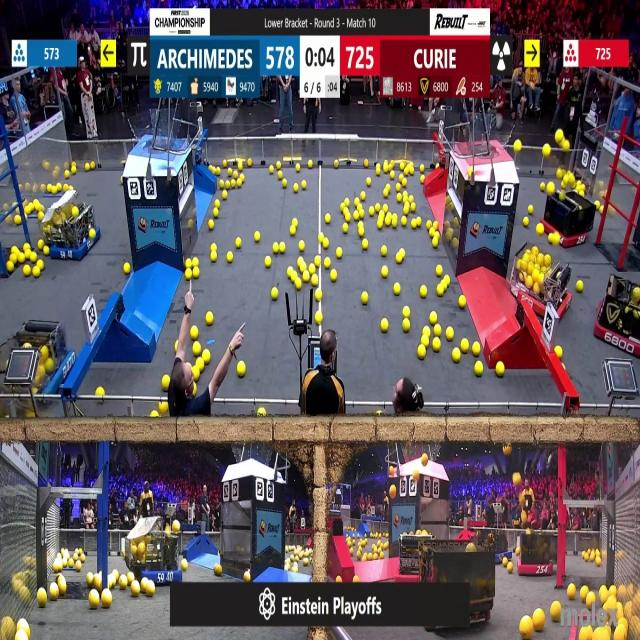ball_airborne: (541, 144, 549, 157), (514, 471, 522, 484), (557, 130, 564, 144), (514, 140, 522, 151), (421, 454, 428, 466), (389, 486, 396, 498), (564, 140, 570, 152), (526, 528, 532, 536)
ball_ground: (37, 589, 46, 607), (496, 360, 505, 376), (238, 360, 246, 376), (473, 360, 482, 374), (460, 340, 469, 354), (163, 377, 171, 391), (432, 324, 441, 336), (402, 319, 410, 332), (189, 326, 197, 339), (446, 327, 454, 339), (419, 346, 426, 359), (214, 564, 222, 575), (393, 283, 400, 295), (266, 255, 273, 267), (429, 312, 436, 324), (459, 296, 466, 308), (472, 344, 479, 356), (422, 326, 430, 336), (16, 253, 24, 263), (361, 291, 367, 304), (6, 263, 13, 274), (123, 264, 129, 276), (272, 288, 278, 300), (253, 233, 260, 243), (192, 269, 198, 280), (362, 239, 368, 250), (312, 275, 318, 286), (576, 281, 582, 292), (298, 241, 304, 252), (185, 270, 191, 280), (337, 248, 343, 258), (524, 216, 530, 226), (382, 268, 388, 278), (331, 270, 336, 282), (432, 239, 438, 248), (342, 223, 348, 232), (212, 252, 217, 262), (227, 252, 232, 262), (209, 219, 214, 229), (401, 216, 406, 226), (368, 208, 374, 216), (354, 575, 359, 583), (338, 575, 343, 583), (360, 190, 365, 198), (316, 256, 321, 264), (529, 206, 533, 215), (403, 206, 407, 213), (294, 566, 298, 572), (216, 206, 218, 216)
goal: (460, 116, 516, 158), (130, 116, 188, 151)
robot_blue: (0, 314, 80, 409), (43, 197, 99, 262), (138, 527, 187, 586)
robot_red: (418, 533, 494, 635), (515, 244, 577, 316), (542, 174, 596, 246), (596, 287, 640, 357), (395, 529, 438, 587), (517, 532, 556, 576)
